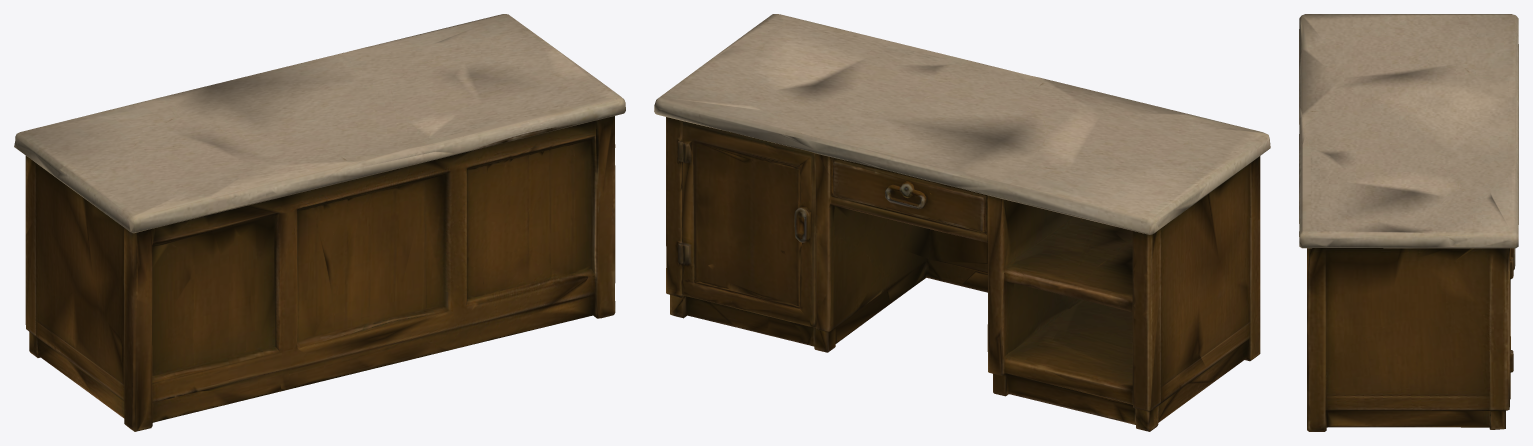
Rendered from Mostrador.glb.
3 views of the same model, side by side, from view 1: azimuth 30°, elevation 25°; view 2: azimuth 150°, elevation 25°; view 3: azimuth 270°, elevation 25° (orthographic). The views are drawn at different scales.
Parts seen in each view (by area): view 1: node_0; view 2: node_0; view 3: node_0.
Boxes of the visible parts, x1,y1,x2,y2 form: node_0: (14, 14, 625, 431); node_0: (654, 14, 1270, 431); node_0: (1299, 14, 1518, 431).
Size of the model in its own units: 1.04 by 0.4406 by 0.4363.
Materials: 1 (1 with a texture image).
